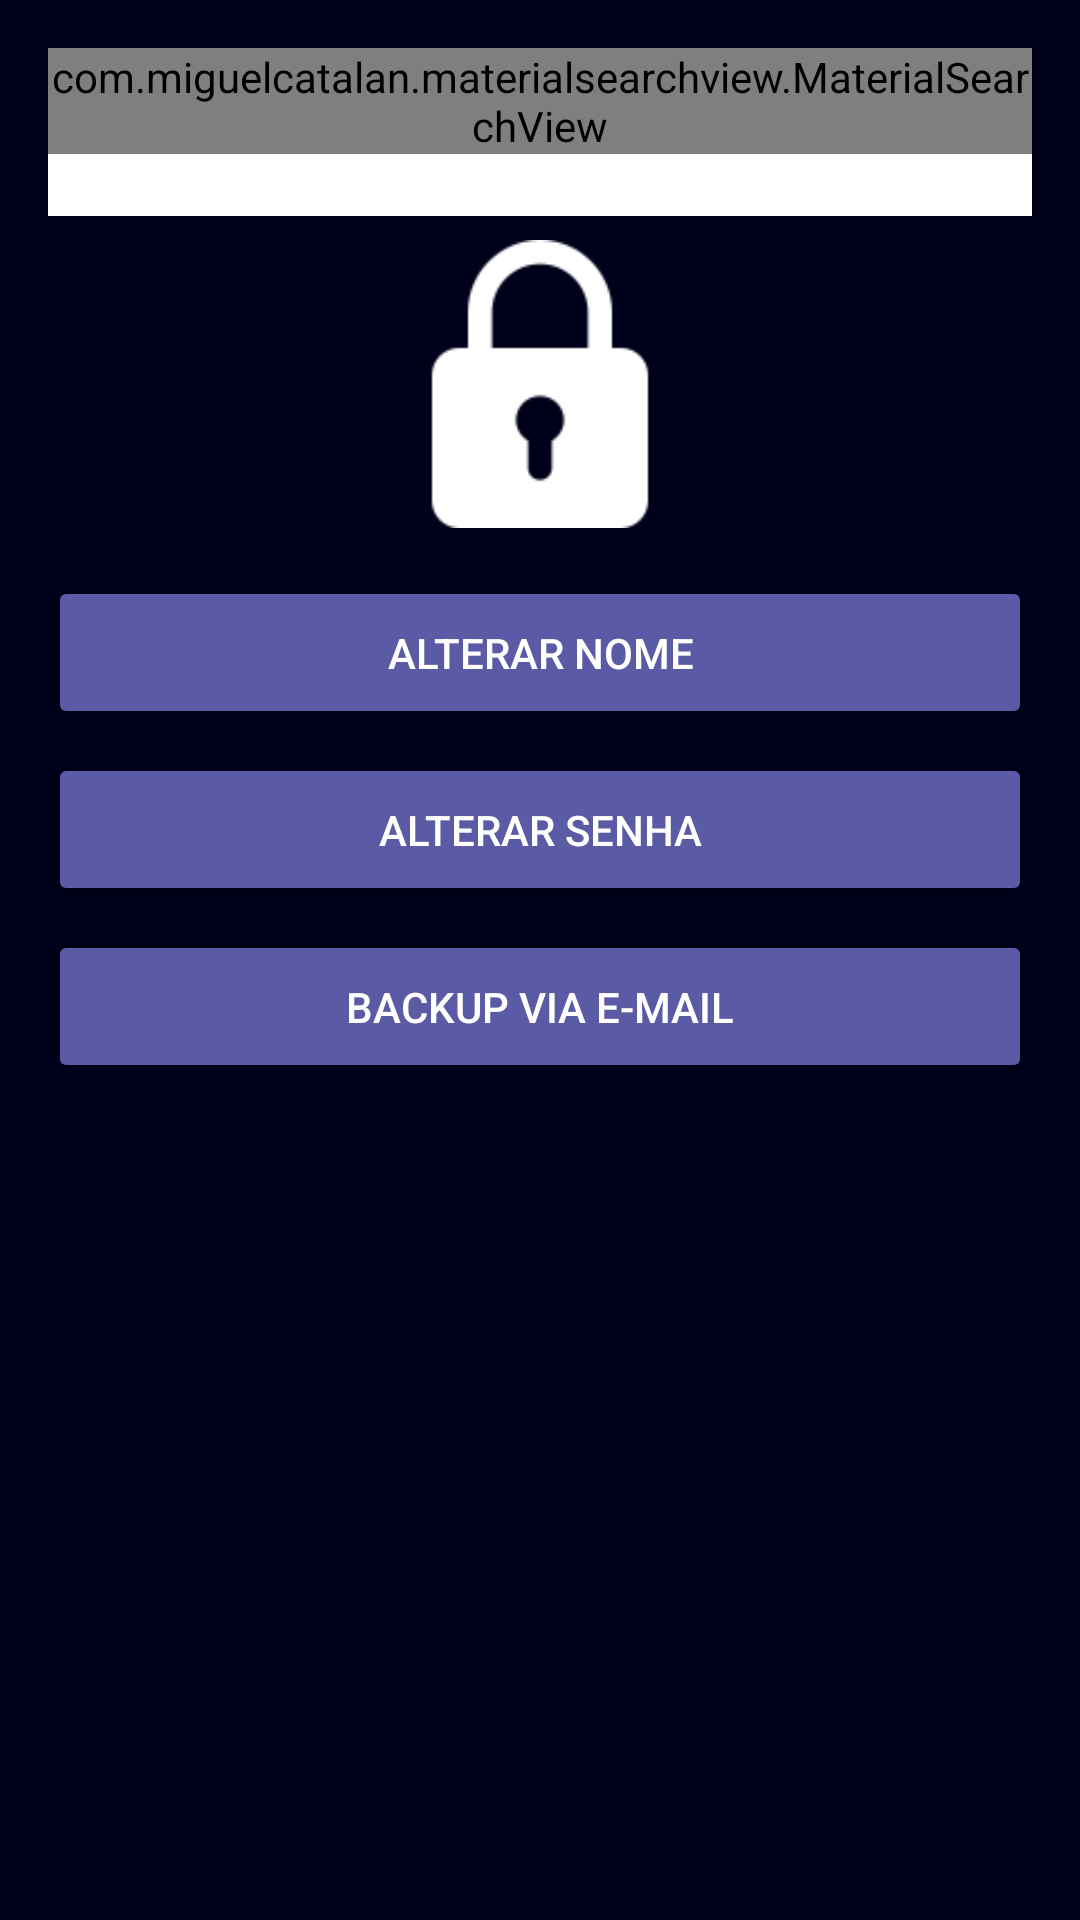

Where to tap for icons on this 1080 × 1920 app screen, as (x,y):
padlock: (540,384)
